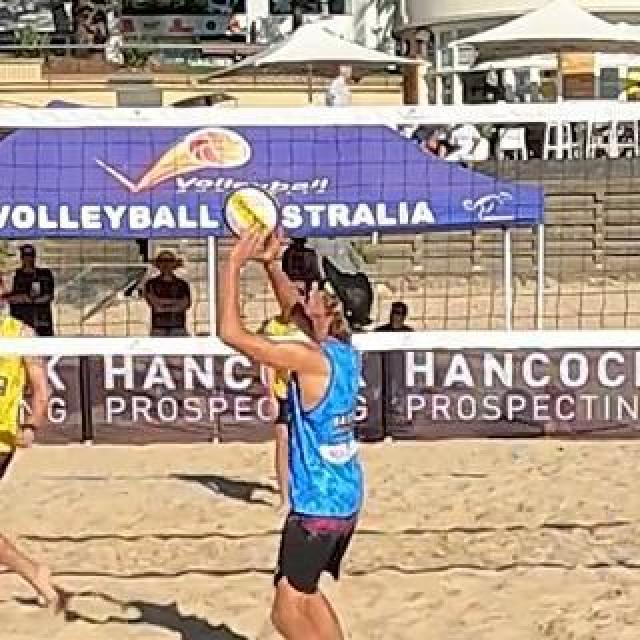volleyball: (223, 188, 279, 242)
